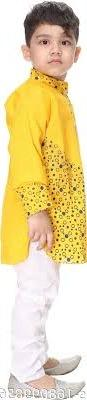Human: (4, 4, 87, 400)
